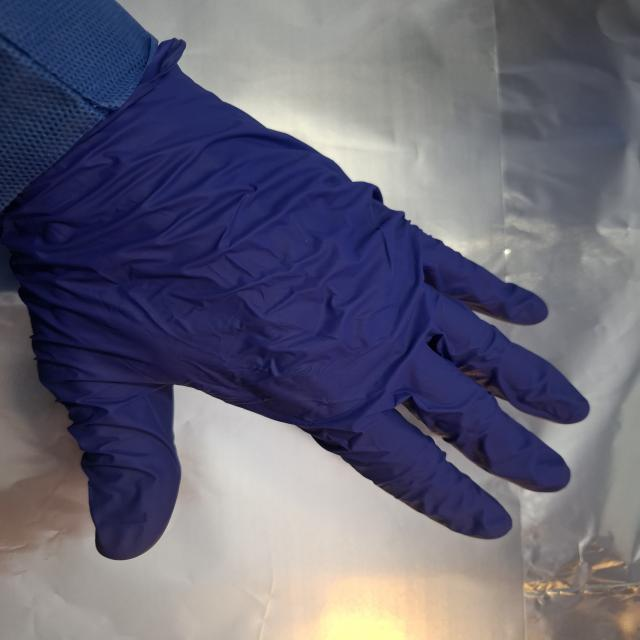glove_on: (2, 55, 592, 562)
